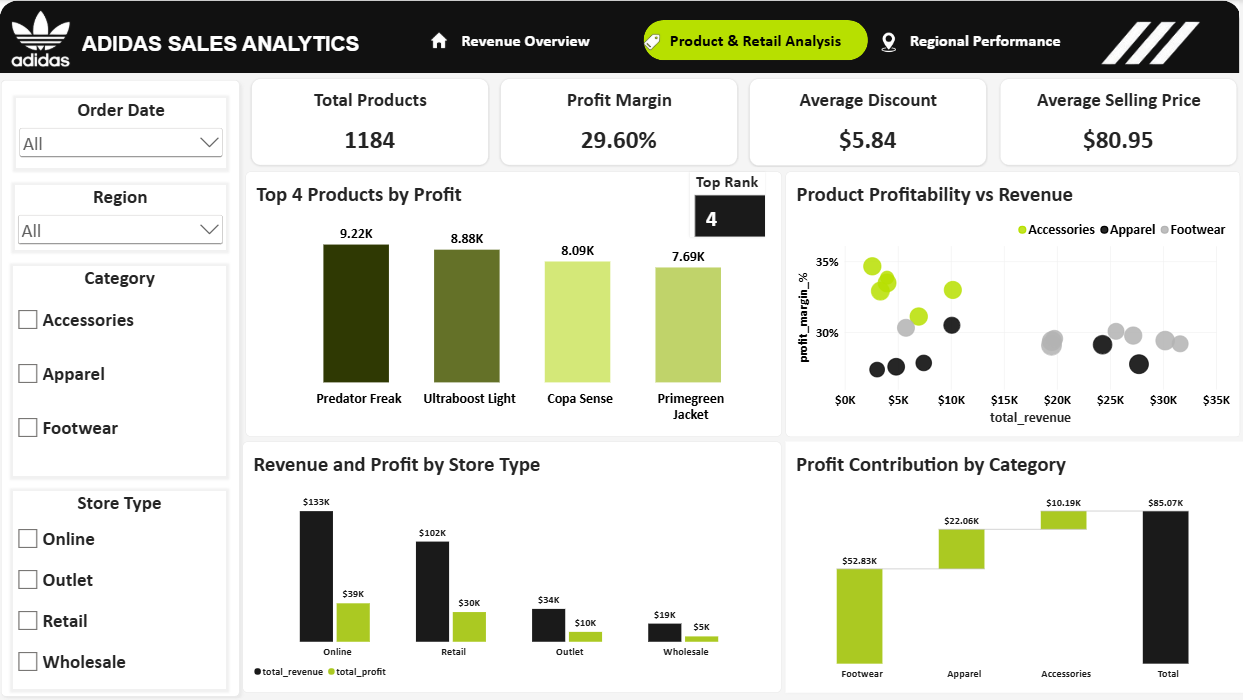

The page's visual inventory and layout, read from the dashboard file:
{"tool":"powerbi","page":{"name":"Product & Retail Analysis","canvas":[1920,1080],"ordinal":1},"visuals":[{"type":"shape","box":[6.7,3.3,1906.7,111.7],"z":0},{"type":"image","box":[6.7,5,126,108],"z":1000},{"type":"textbox","box":[133.3,31.7,444,82],"z":2000},{"type":"image","box":[1696.1,2.3,163.6,129],"z":3000},{"type":"pageNavigator","box":[642.9,32.3,1053.1,62.2],"z":4000},{"type":"image","box":[664,48,36,34],"z":5000},{"type":"image","box":[996,52,28,26],"z":6000},{"type":"image","box":[1358,48,32,36],"z":7000},{"type":"card","title":"Total Products","fields":{"Values":["Calculated_Table.total_products"]},"box":[394.1,122.1,364.1,133.7],"z":8000},{"type":"card","title":"Profit Margin","fields":{"Values":["Calculated_Table.profit_margin_%"]},"box":[776.6,122.1,364.1,133.7],"z":9000},{"type":"card","title":"Average Selling Price","fields":{"Values":["Calculated_Table.average_selling_price"]},"box":[1544,122.1,364.1,133.7],"z":10000},{"type":"card","title":"Average Discount","fields":{"Values":["Calculated_Table.average_discount"]},"box":[1160,122,364,134],"z":11000},{"type":"shape","box":[0,114.4,384.8,965.6],"z":12000},{"type":"slicer","title":"Order Date","fields":{"Values":["Date_Table.Date.Variation.Date Hierarchy.Year","Date_Table.Date.Variation.Date Hierarchy.Month","Date_Table.Date.Variation.Date Hierarchy.Day"]},"box":[32.3,152.1,322.6,108.3],"z":13000},{"type":"slicer","title":"Region","fields":{"Values":["adidas_sales_data.Region"]},"box":[30,285.8,324.9,99.1],"z":14000},{"type":"slicer","title":"Category","fields":{"Values":["adidas_sales_data.Category"]},"box":[27.7,410.2,327.2,322.6],"z":15000},{"type":"slicer","title":"Store Type","fields":{"Values":["adidas_sales_data.Store_Type"]},"box":[27.7,755.9,327.2,304.2],"z":16000},{"type":"clusteredColumnChart","title":"Revenue and Profit by Store Type","fields":{"Category":["adidas_sales_data.Store_Type"],"Y":["Calculated_Table.total_revenue","Calculated_Table.total_profit"]},"box":[380,680,828,386],"z":17000},{"type":"clusteredColumnChart","fields":{"Category":["adidas_sales_data.Product_Name"],"Y":["Calculated_Table.product_profit_rank_var"]},"box":[384,264,824,407],"z":18000},{"type":"waterfallChart","title":"Profit Contribution by Category","fields":{"Category":["adidas_sales_data.Category"],"Y":["Calculated_Table.total_profit"]},"box":[1214,680,706,386],"z":19000},{"type":"scatterChart","title":"Product Profitability vs Revenue","fields":{"Category":["adidas_sales_data.Product_Name"],"Series":["adidas_sales_data.Category"],"Size":["Calculated_Table.total_units_sold"],"X":["Calculated_Table.total_revenue"],"Y":["Calculated_Table.profit_margin_%"]},"box":[1214,264,700,408],"z":20000},{"type":"slicer","title":"Top Rank","fields":{"Values":["Rank Table.Rank Table"]},"box":[1068,264,116,100],"z":21000}]}

Visuals, with their boxes in screenshot pixels (x1, y1, x2, y2), scaled from the page's 1920x1080 canvas onto the 1243x700 screenshot:
shape: detection(4, 2, 1239, 75)
image: detection(4, 3, 86, 73)
textbox: detection(86, 21, 374, 74)
image: detection(1098, 1, 1204, 85)
pageNavigator: detection(416, 21, 1098, 61)
image: detection(430, 31, 453, 53)
image: detection(645, 34, 663, 51)
image: detection(879, 31, 900, 54)
"Total Products" card: detection(255, 79, 491, 166)
"Profit Margin" card: detection(503, 79, 738, 166)
"Average Selling Price" card: detection(1000, 79, 1235, 166)
"Average Discount" card: detection(751, 79, 987, 166)
shape: detection(0, 74, 249, 699)
"Order Date" slicer: detection(21, 99, 230, 169)
"Region" slicer: detection(19, 185, 230, 249)
"Category" slicer: detection(18, 266, 230, 475)
"Store Type" slicer: detection(18, 490, 230, 687)
"Revenue and Profit by Store Type" clusteredColumnChart: detection(246, 441, 782, 691)
clusteredColumnChart - adidas_sales_data.Product_Name x Calculated_Table.product_profit_rank_var: detection(249, 171, 782, 435)
"Profit Contribution by Category" waterfallChart: detection(786, 441, 1242, 691)
"Product Profitability vs Revenue" scatterChart: detection(786, 171, 1239, 436)
"Top Rank" slicer: detection(691, 171, 767, 236)
